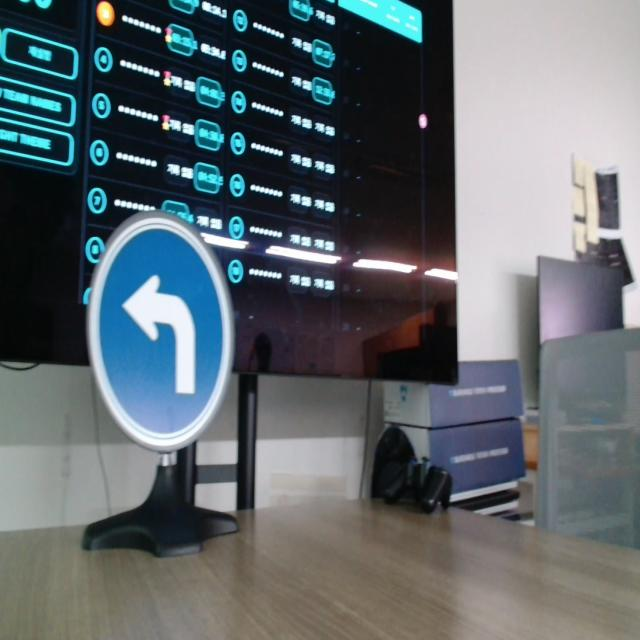left_direction: (84, 201, 236, 456)
